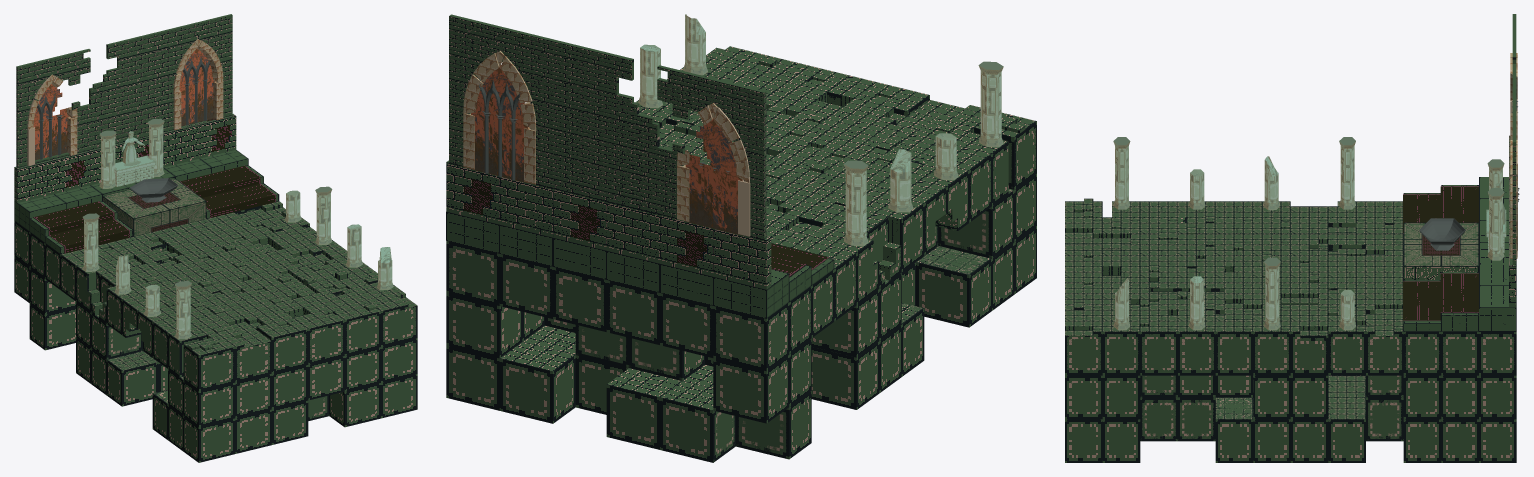
File: RetroMap.glb
The picture shows the model from 3 angles, left to right: view 1: azimuth 30°, elevation 25°; view 2: azimuth 150°, elevation 25°; view 3: azimuth 270°, elevation 25°; orthographic projection. The views are drawn at different scales.
Parts seen in each view (by area): view 1: Object_4.006, Plane.003; view 2: Object_4.006, Plane.003; view 3: Object_4.006, Plane.003.
Part boxes in pixels (left/top/right/bottom): Object_4.006: left=14, top=186, right=417, bottom=462; Plane.003: left=14, top=14, right=279, bottom=254; Object_4.006: left=446, top=14, right=1036, bottom=462; Plane.003: left=446, top=14, right=834, bottom=318; Object_4.006: left=1065, top=137, right=1516, bottom=462; Plane.003: left=1403, top=14, right=1519, bottom=331.
Size of the model in its own units: 16.44 by 18.74 by 24.18.
Materials: 11 (8 with a texture image).
